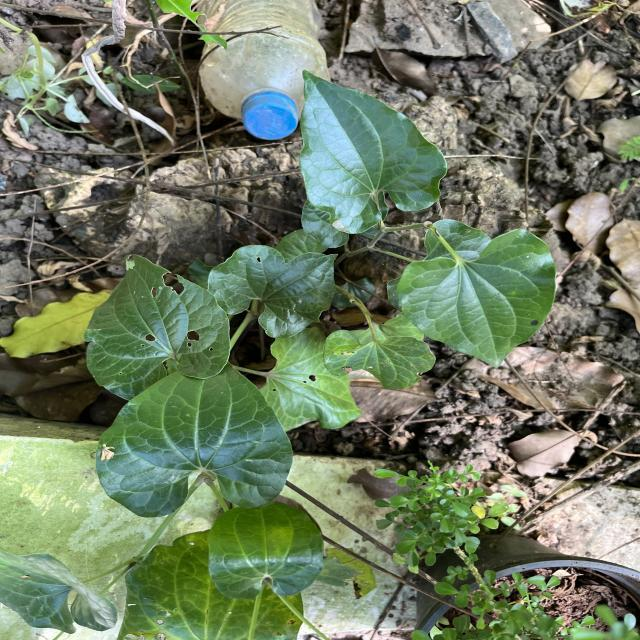Piper longum: (91, 362, 297, 522), (296, 66, 450, 235), (394, 226, 558, 370)
